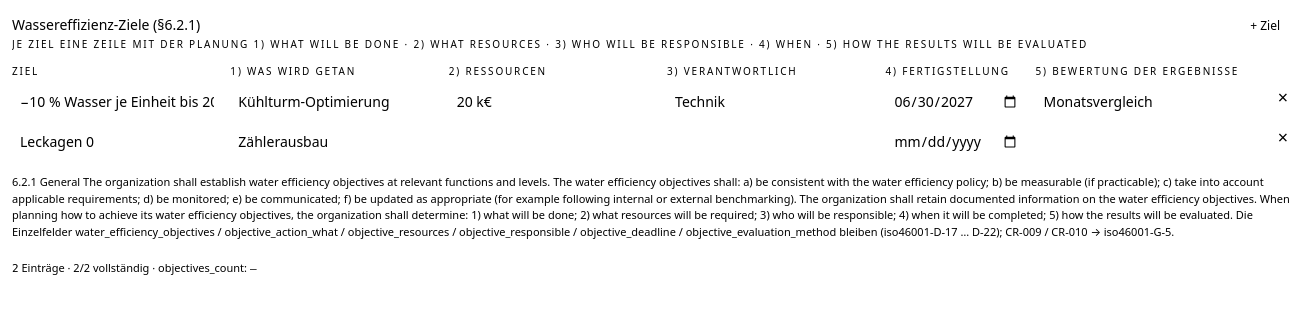
Test case: objectives through the generic RegisterEditor (Plan 3 Task 22) › two objective rows with the §6.2.1 1) – 5) planning columns render complete; objectives_count 2; a new row without its objective text is incomplete
expect the number of rows with test id "register-row" is 2: met, box [12,82,1292,122]; [12,122,1292,162]
expect the text with test id "rows-complete" reads "2/2": met, box [73,260,90,275]
Click the button "+ Ziel": (1265, 26) [1238,12,1292,40]
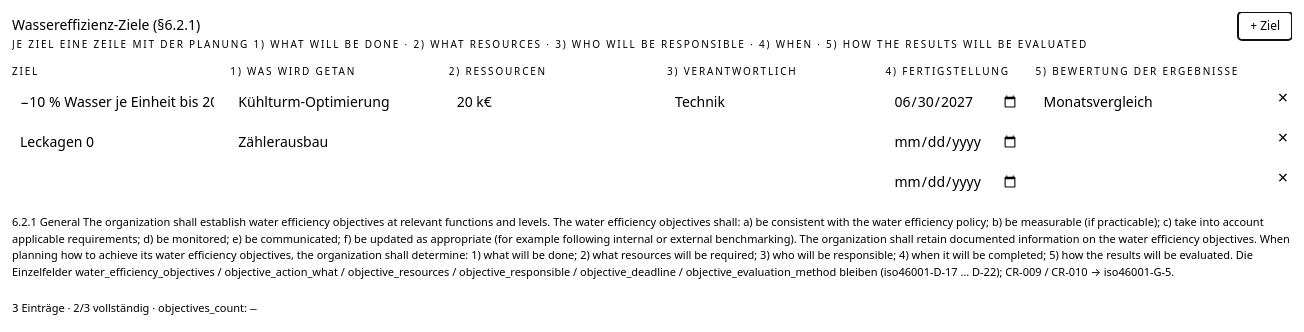
expect the text with test id "rows-complete" reads "2/3": met, box [73,300,90,315]
